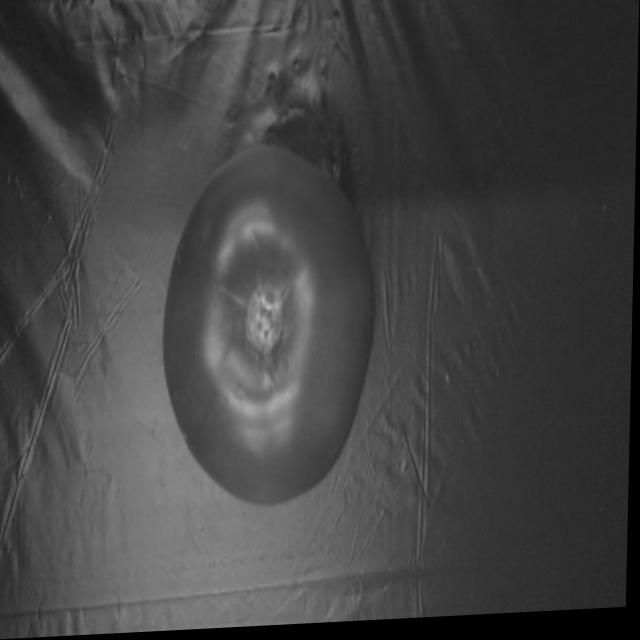kirmizi: (157, 143, 380, 517)
